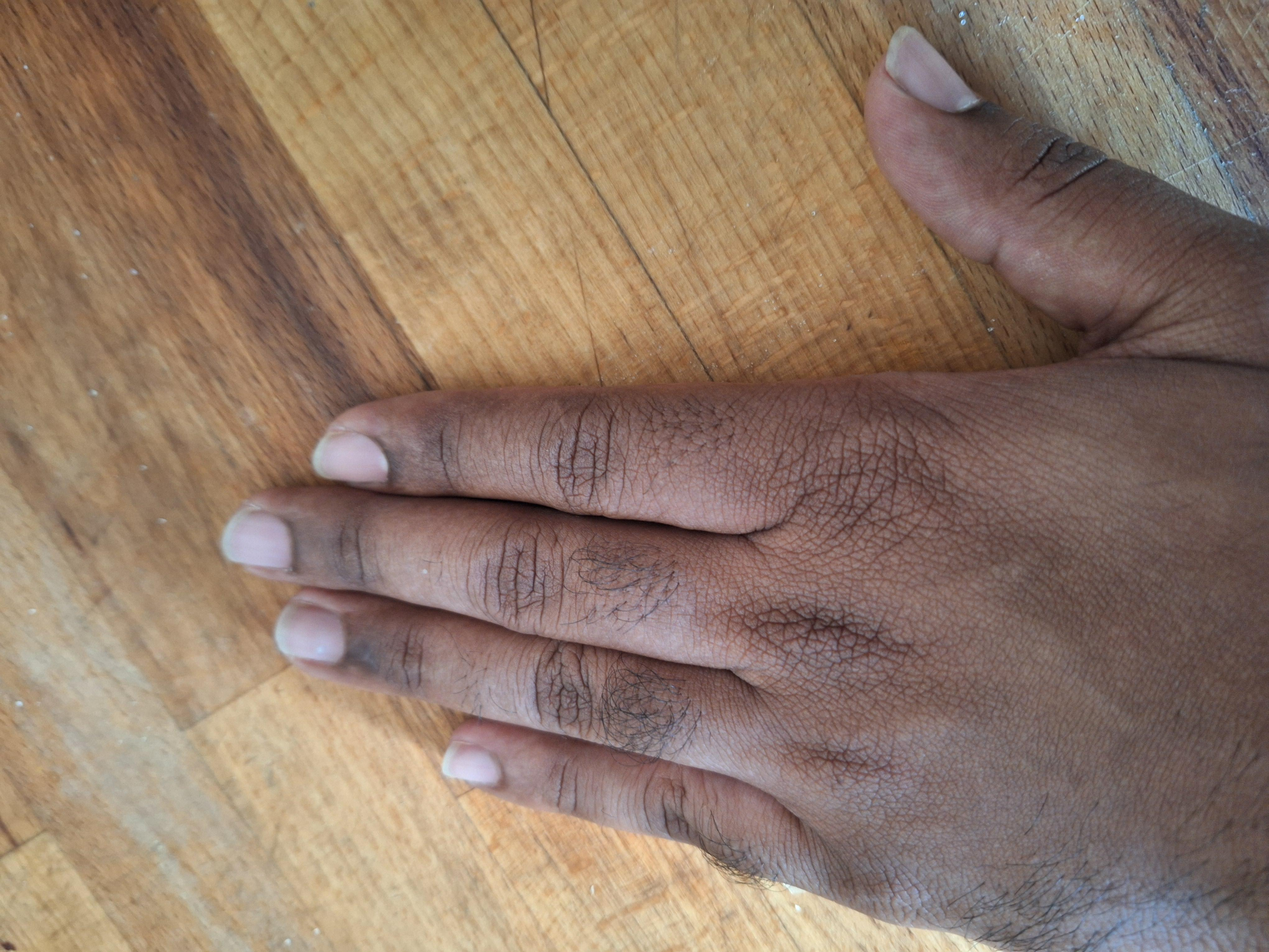Fingernail: (885, 26, 979, 113), (276, 602, 346, 663), (222, 509, 292, 568), (313, 432, 388, 482), (442, 740, 504, 784)
